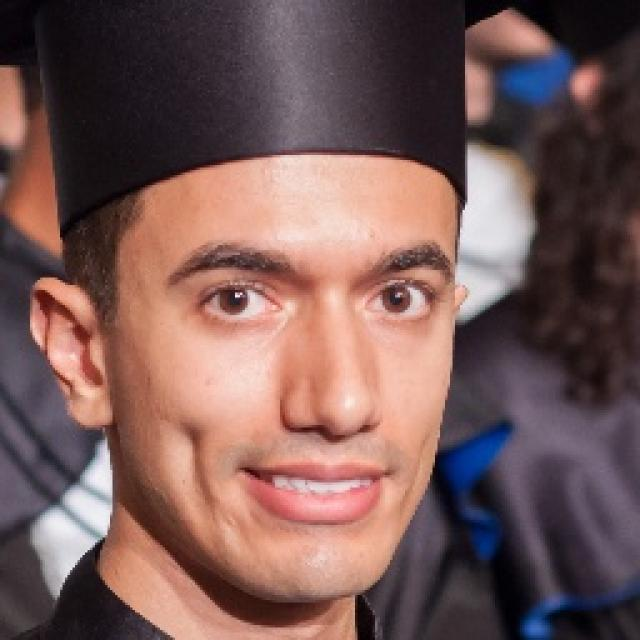earlobe: (28, 277, 119, 431)
